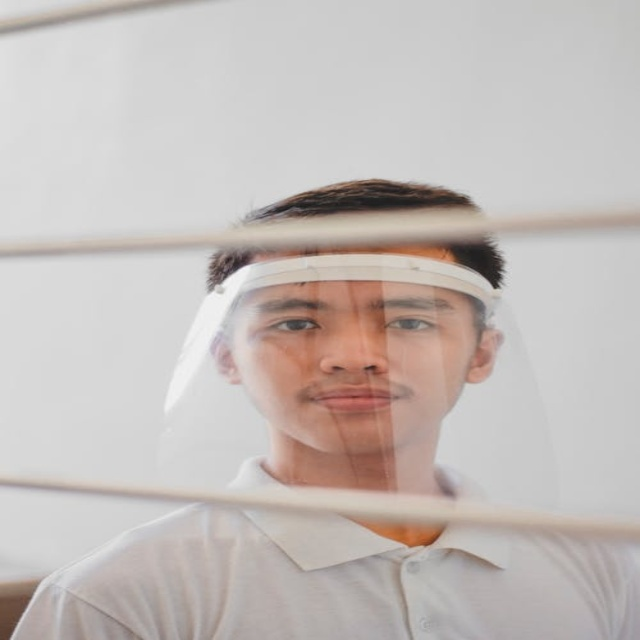Sin_gafas: (255, 295, 452, 342)
Sin_mascara: (284, 378, 416, 439)
